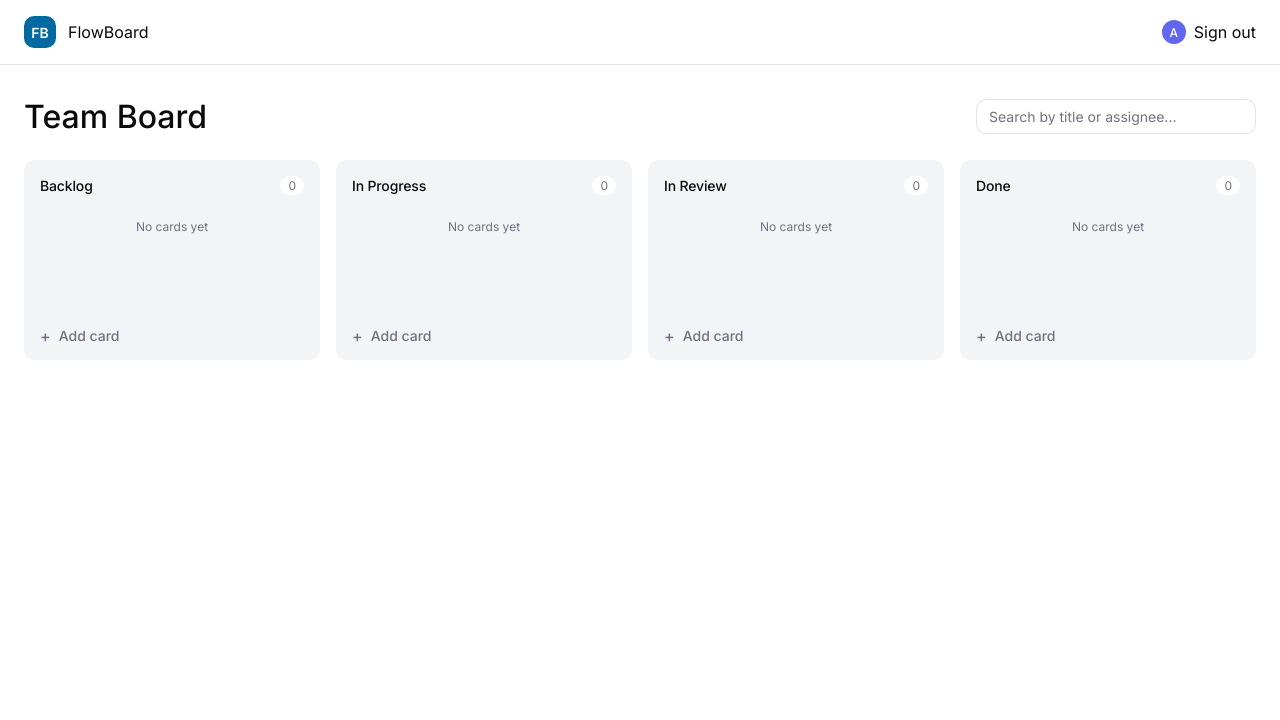
Test case: creating cards › adds a card to the clicked column and inserts it in Supabase
Expected: the heading "Team Board" is shown, 24,97 -> 207,136
Click the button "+ Add card" below "In Progress" at (401, 336), box 352,327 -> 616,344
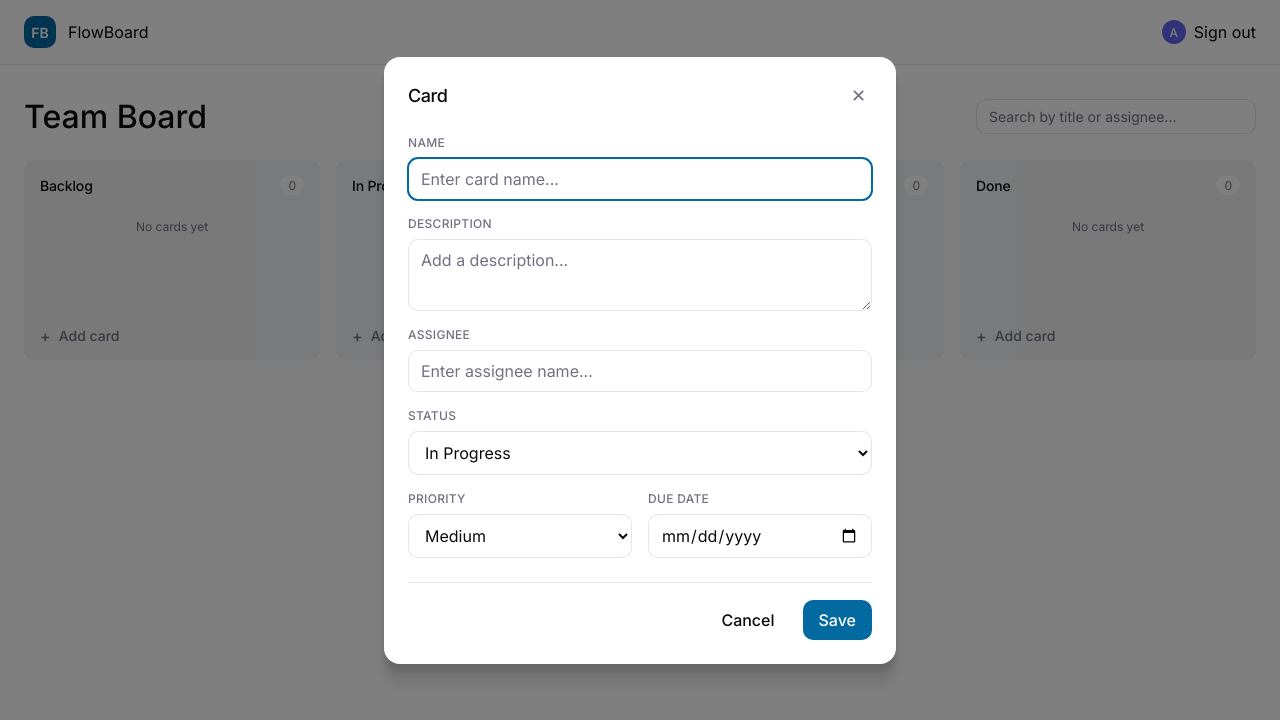
Type "  Ship it " into the field labelled "Name" at (640, 178), box 408,158 -> 872,200
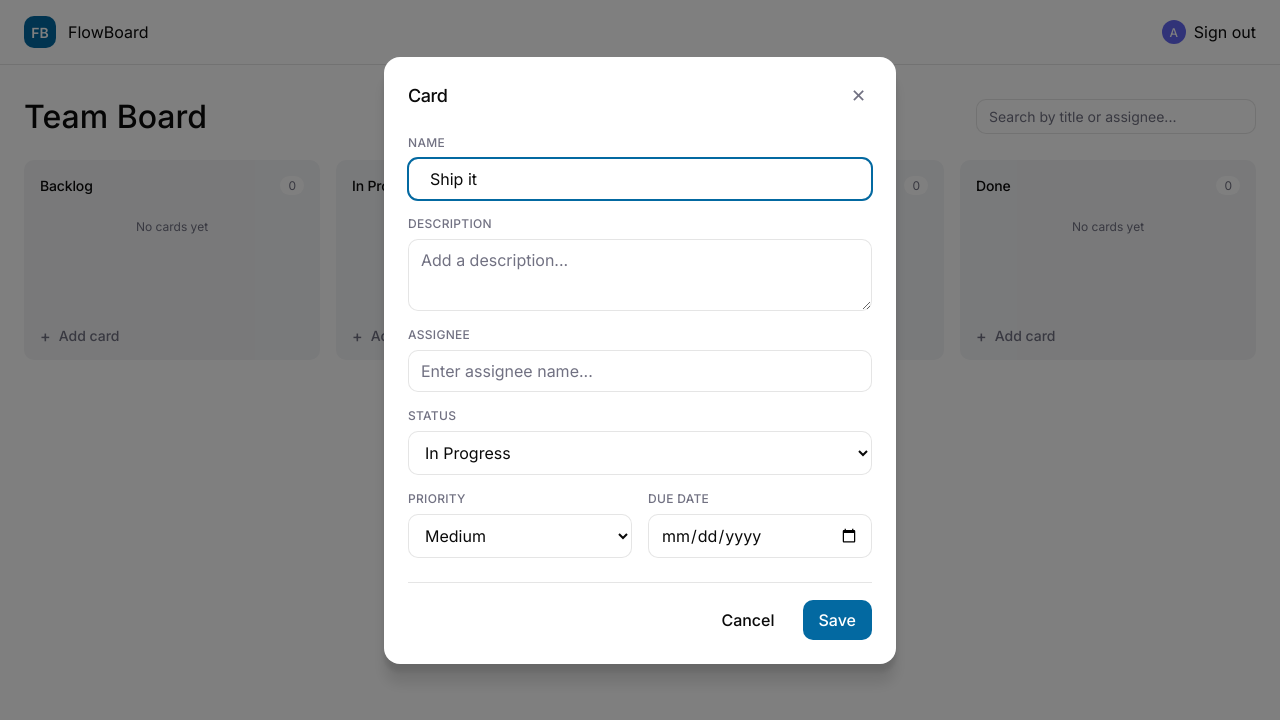
Type "Grace" into the field labelled "Assignee" at (640, 370), box 408,350 -> 872,392
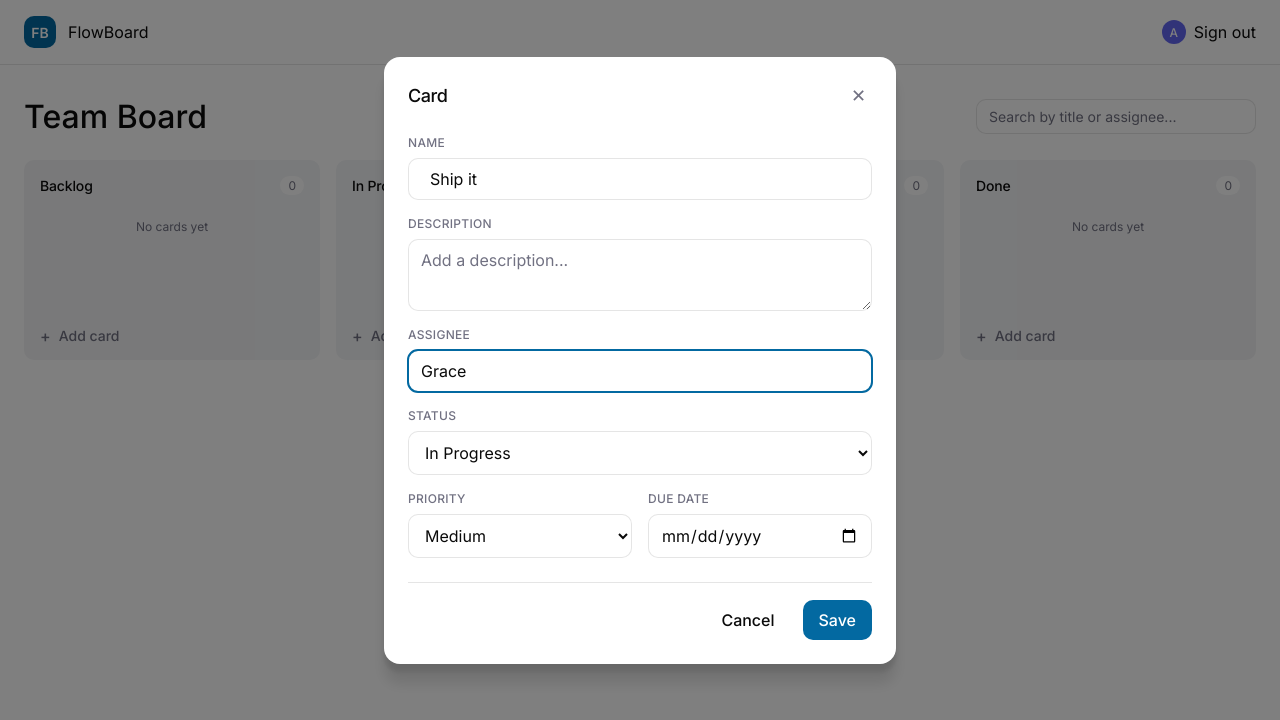
Type "2099-05-05" into the date field labelled "Due Date" at (760, 536), box 648,514 -> 872,558
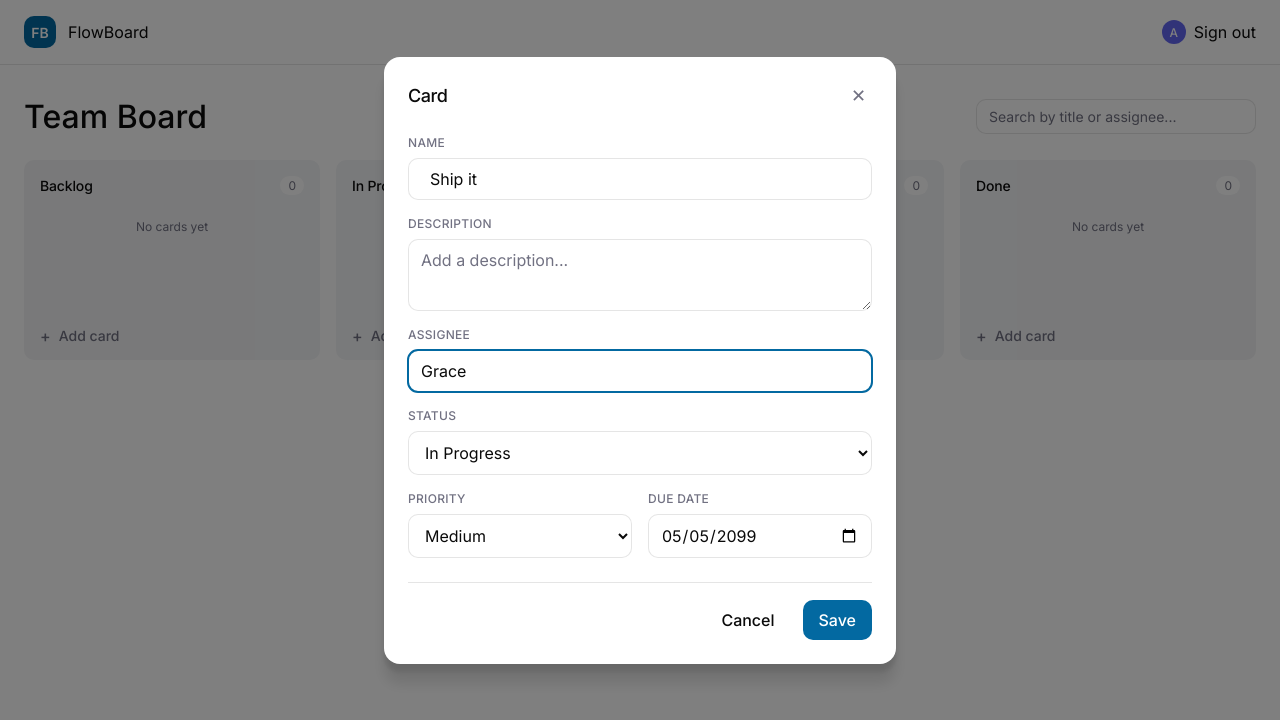
Click the button "Save" at (837, 620), box 802,600 -> 872,640
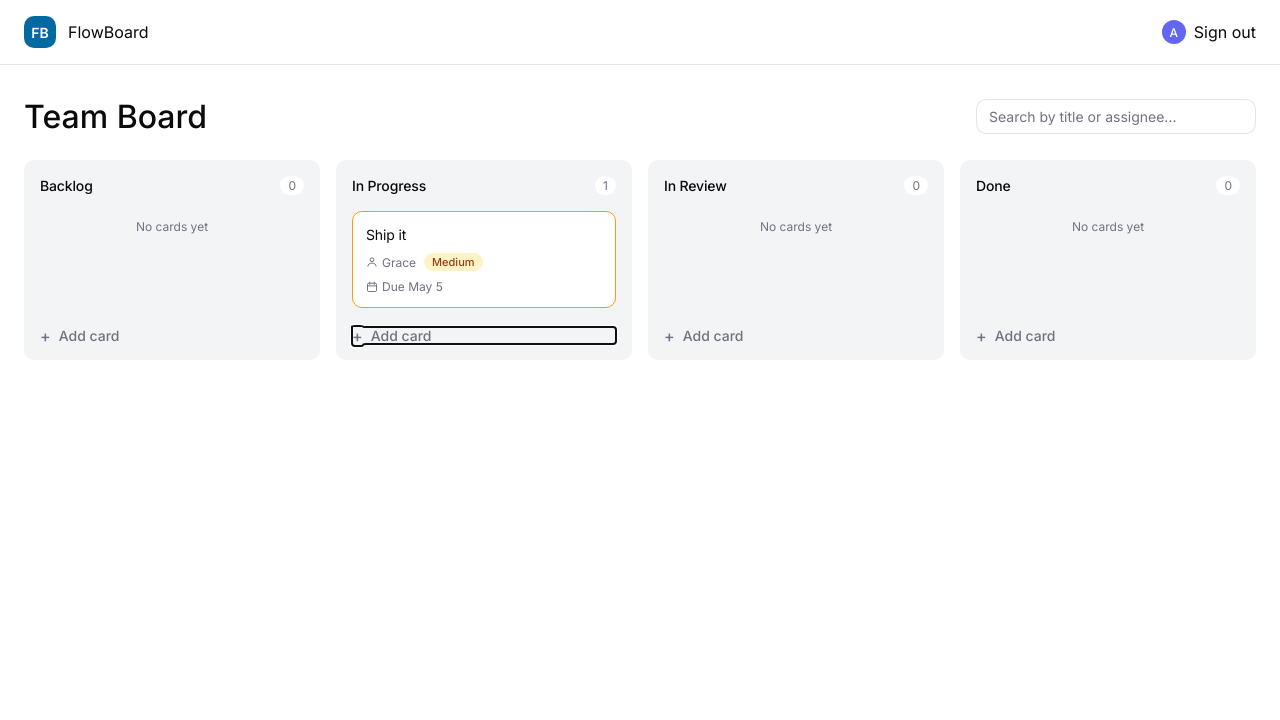
Expected: the text "Ship it" is shown, 366,225 -> 406,245
Expected: the dialog is gone
